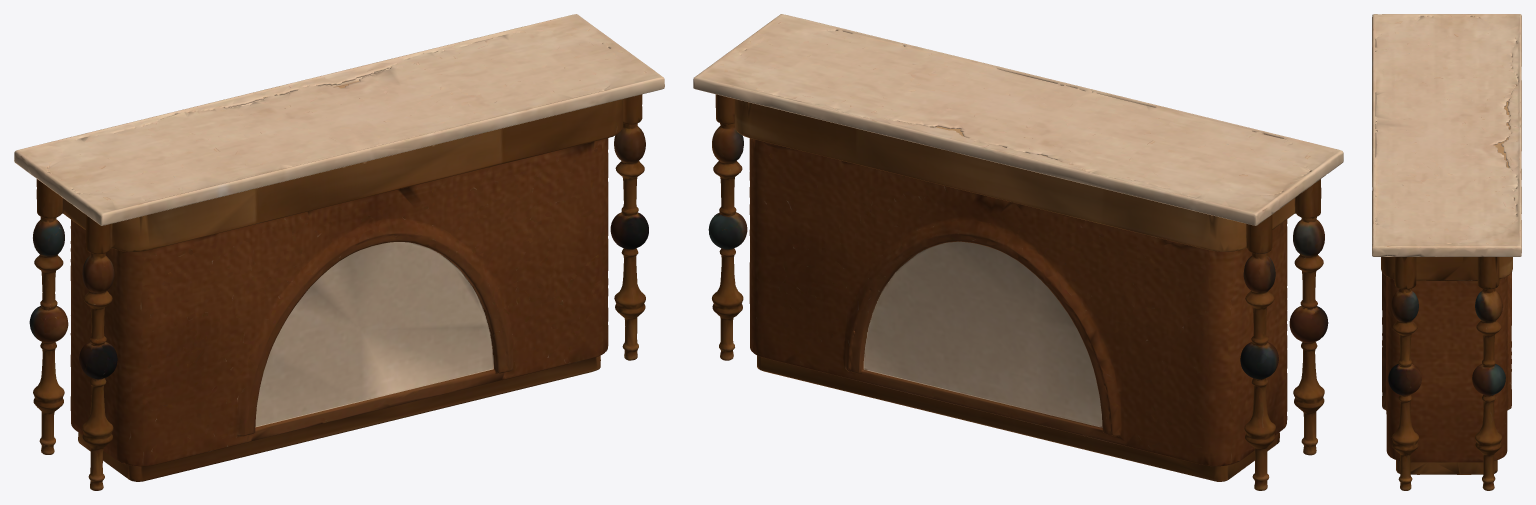
The model's file is postmodern-marble-bar.glb.
The picture shows the model from 3 angles, left to right: view 1: azimuth 30°, elevation 25°; view 2: azimuth 150°, elevation 25°; view 3: azimuth 270°, elevation 25°; orthographic projection. The views are drawn at different scales.
Parts seen in each view (by area): view 1: world; view 2: world; view 3: world.
Part boxes in pixels (x1=…): world: x1=14, y1=14, x2=664, y2=490; world: x1=693, y1=14, x2=1343, y2=490; world: x1=1372, y1=14, x2=1521, y2=490.
Bounding box in the file's own units: 1 × 0.4979 × 0.2719.
1 material, 1 textured.
